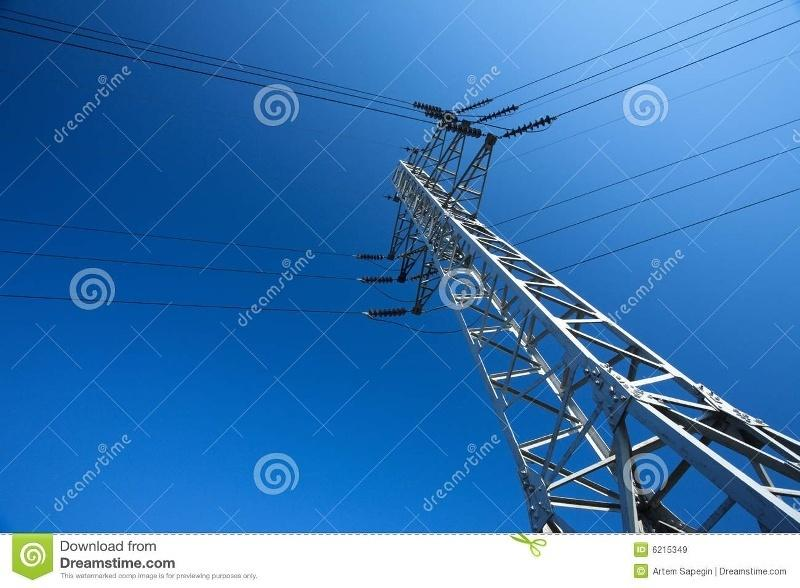power_tower: (374, 119, 777, 519)
